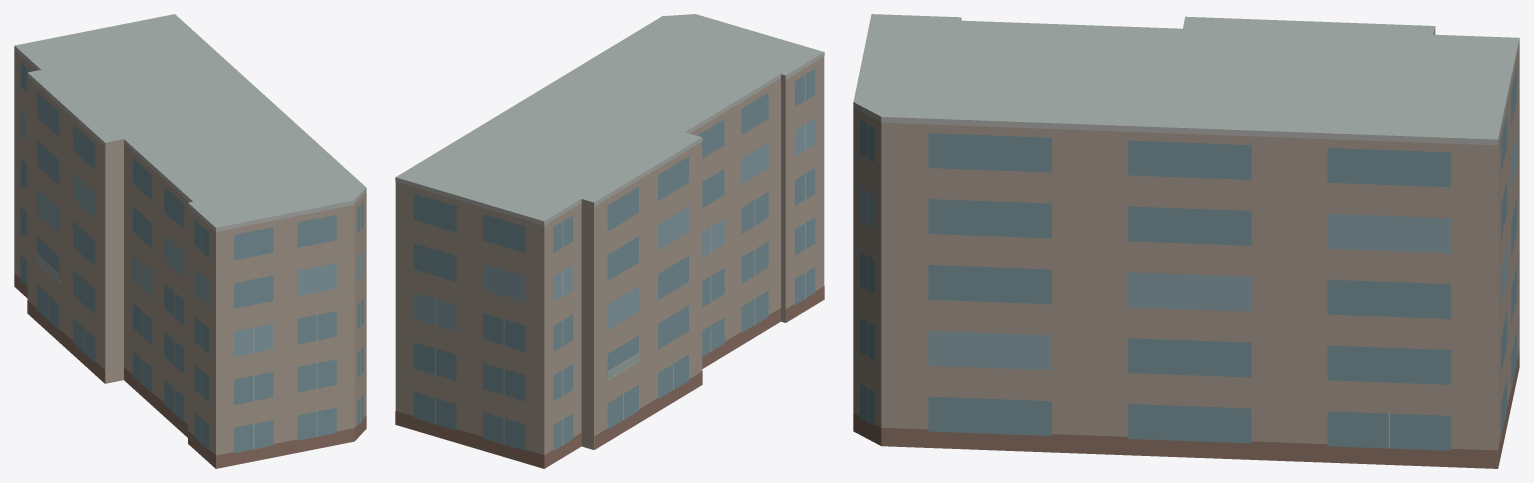
The model's file is survey-upis-32611353.glb.
The picture shows the model from 3 angles, left to right: view 1: azimuth 30°, elevation 25°; view 2: azimuth 150°, elevation 25°; view 3: azimuth 270°, elevation 25°; orthographic projection. The views are drawn at different scales.
Parts seen in each view (by area): view 1: survey-upis-32611353.tmp; view 2: survey-upis-32611353.tmp; view 3: survey-upis-32611353.tmp.
Boxes of the visible parts, box(x1,y1,x2,y2) form: survey-upis-32611353.tmp: box(14, 14, 366, 468); survey-upis-32611353.tmp: box(395, 14, 824, 468); survey-upis-32611353.tmp: box(853, 14, 1519, 468).
Size of the model in its own units: 11.38 by 13.9 by 25.49.
